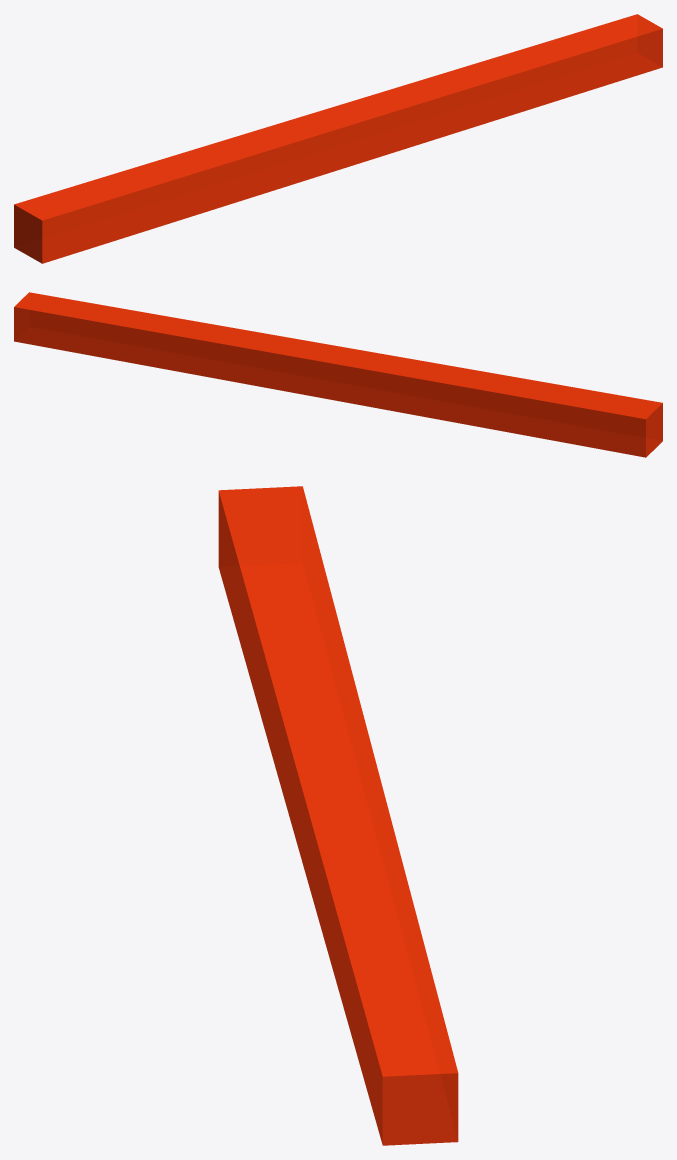
Rendered from Event_421115418_EErechit_27.fbx.
3 views of the same model, one above another, from view 1: azimuth 30°, elevation 25°; view 2: azimuth 150°, elevation 25°; view 3: azimuth 270°, elevation 25° (orthographic). The views are drawn at different scales.
Visible parts, largest first — view 1: Model; view 2: Model; view 3: Model.
Boxes of the visible parts, x1,y1,x2,y2 form: Model: (14, 14, 662, 263); Model: (14, 292, 662, 457); Model: (218, 486, 458, 1145).
Size of the model in its own units: 1.31 by 0.0809 by 0.2286.
